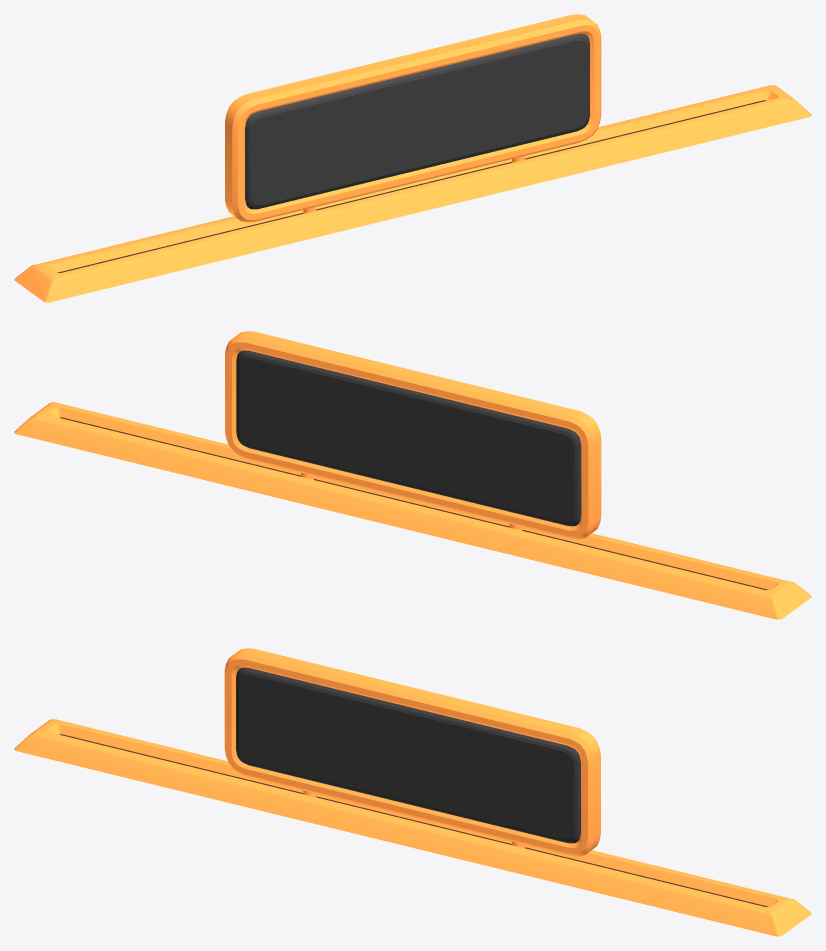
File: obstacle_5_001.glb
3 renders of one model, top to bottom at view 1: azimuth 30°, elevation 25°; view 2: azimuth 150°, elevation 25°; view 3: azimuth 330°, elevation 25°, orthographic.
Visible parts, largest first — view 1: obstacle_5_002, obstacle_5_001; view 2: obstacle_5_002, obstacle_5_001; view 3: obstacle_5_002, obstacle_5_001.
Part boxes in pixels (x1,y1,x2,y2): obstacle_5_002: [225, 14, 601, 222]; obstacle_5_001: [14, 85, 811, 302]; obstacle_5_002: [225, 331, 601, 539]; obstacle_5_001: [14, 402, 811, 619]; obstacle_5_002: [224, 648, 600, 856]; obstacle_5_001: [14, 719, 811, 936].
Size of the model in its own units: 6.75 by 1.18 by 0.5131.
Materials: 2 (2 with a texture image).
